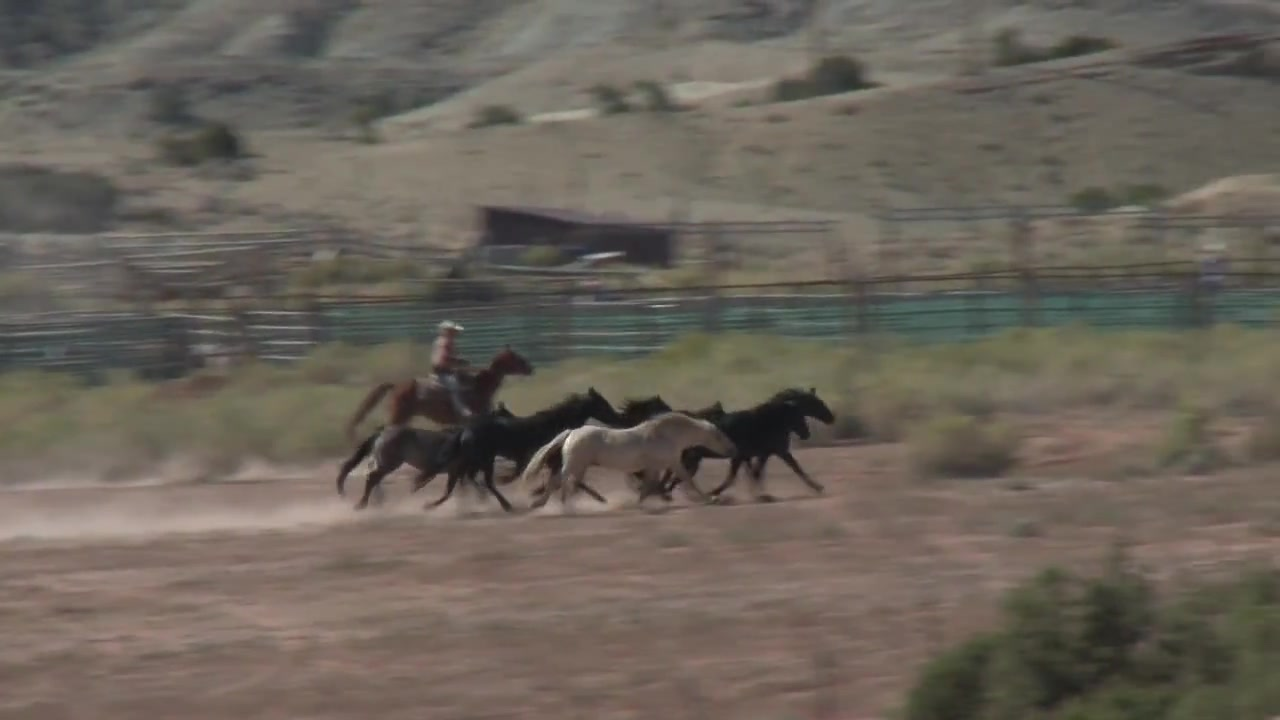horse: (335, 407, 532, 519), (525, 411, 740, 513), (341, 342, 539, 443), (665, 396, 831, 497), (479, 385, 625, 498), (740, 385, 843, 488), (601, 386, 685, 503)
